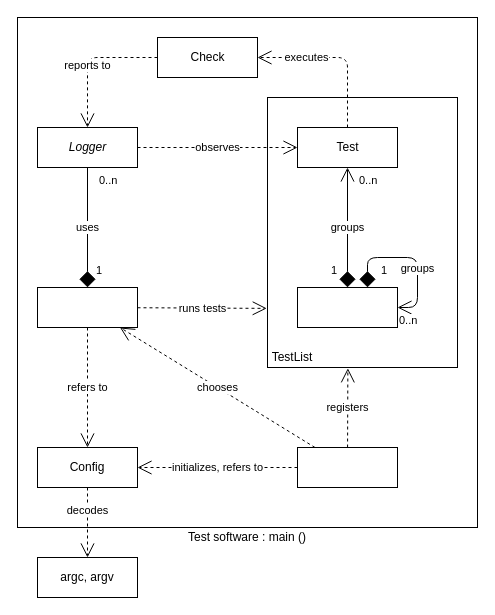
This 495x615 diagram has some shape labels left out. Each missing label, with the box of its shape:
fatigue: (296, 446, 398, 488)
Runner: (36, 286, 138, 328)
Suite: (296, 286, 398, 328)
